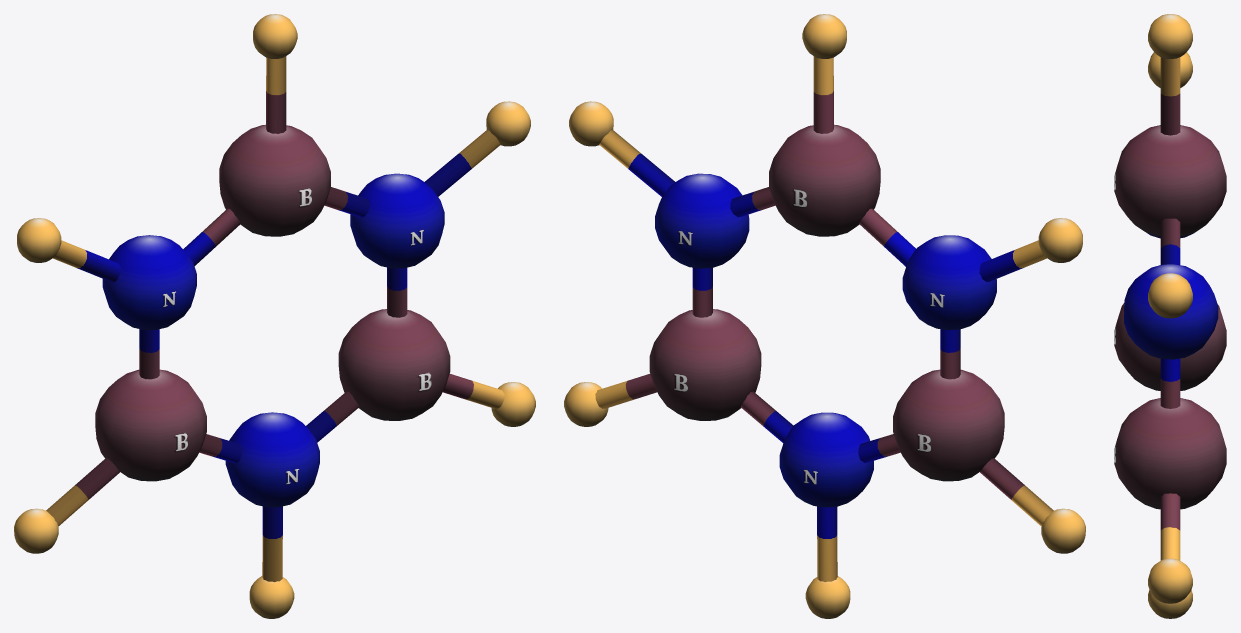
Rendered from Borazole.dae.
3 views of the same model, side by side, from view 1: azimuth 30°, elevation 25°; view 2: azimuth 150°, elevation 25°; view 3: azimuth 270°, elevation 25° (orthographic).
Parts seen in each view (by area): view 1: polySurface2; view 2: polySurface2; view 3: polySurface2.
Part boxes in pixels (x1,y1,x2,y2): polySurface2: (14,14,535,618); polySurface2: (564,14,1085,618); polySurface2: (1114,14,1226,618).
Bounding box in the file's own units: 3.98 × 4.43 × 0.7496.
Materials: 1 (1 with a texture image).
